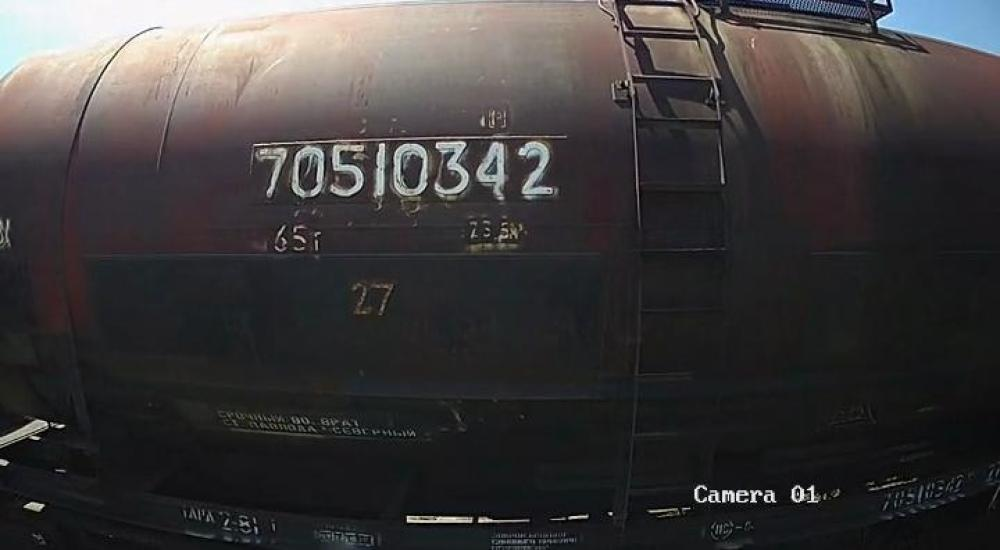Wagon-number: (251, 137, 562, 201)
